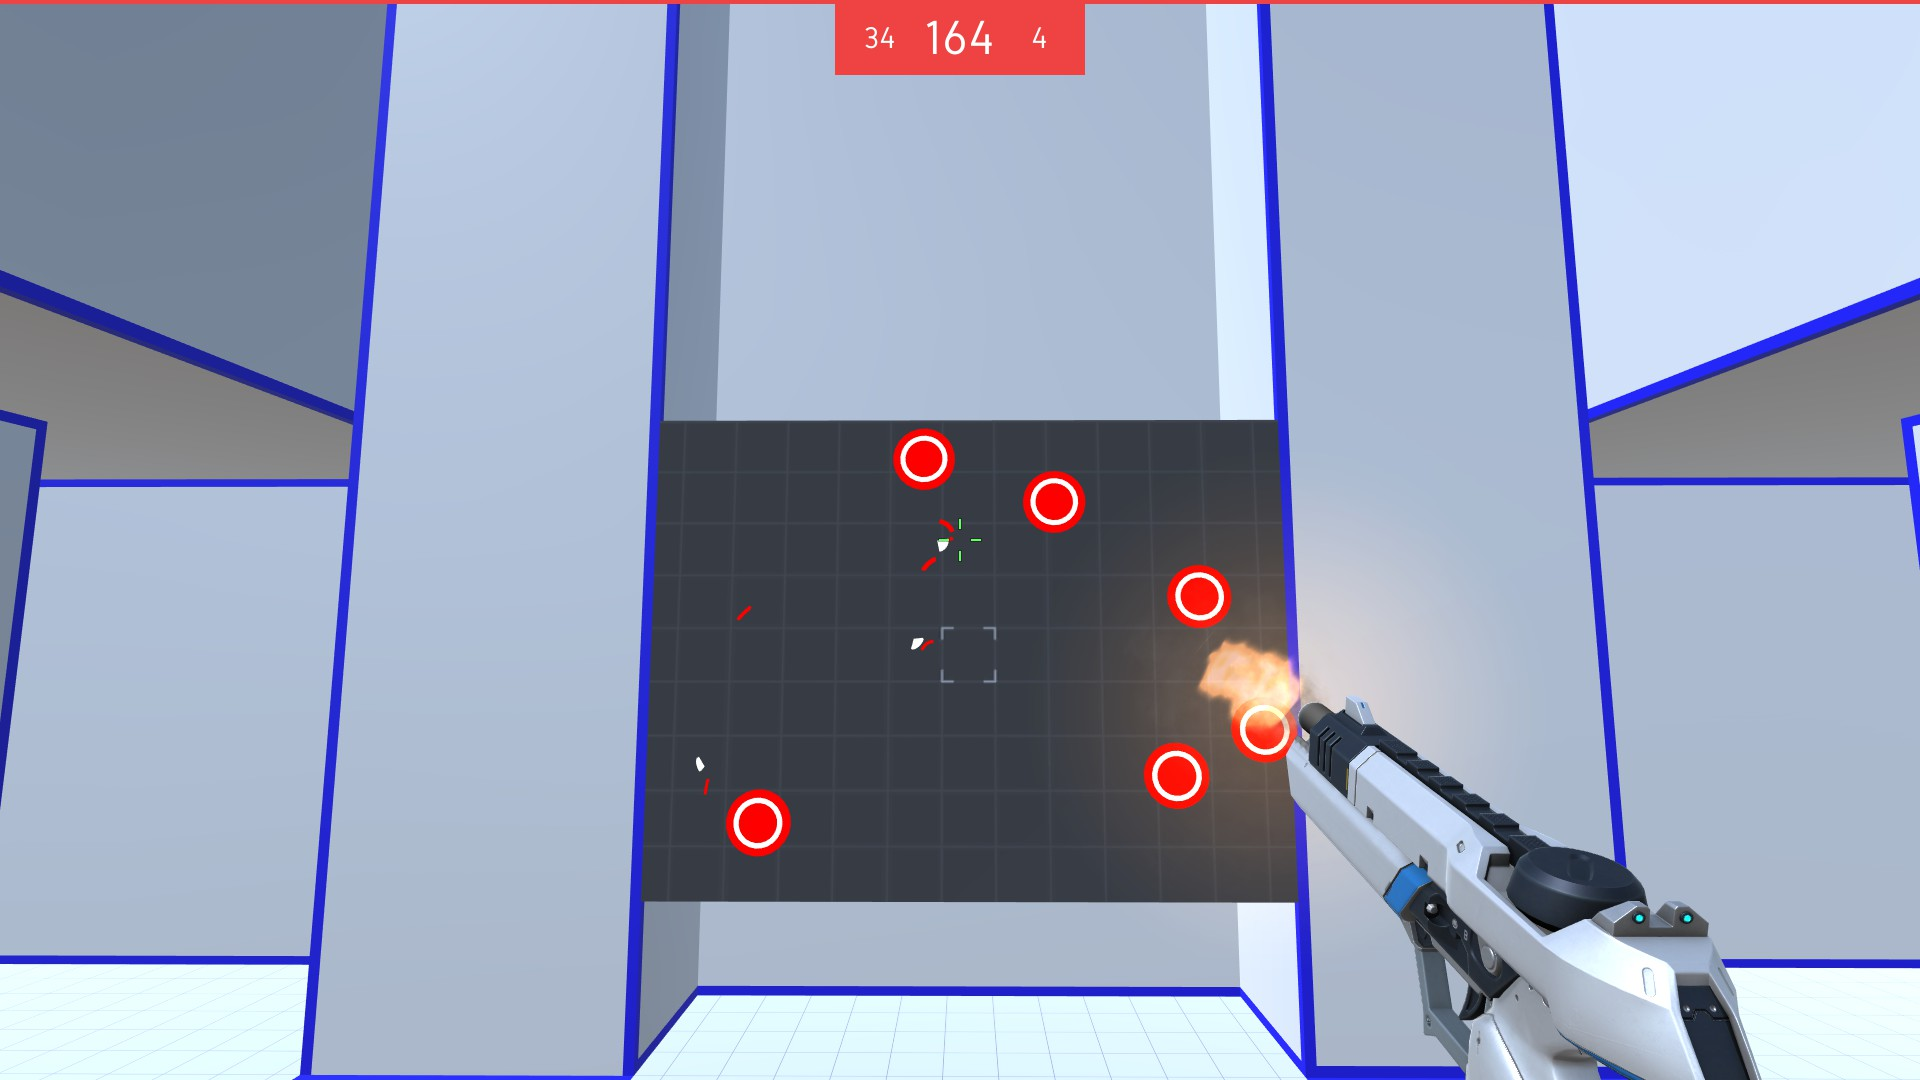target: (723, 789, 796, 862), (1142, 741, 1212, 814), (1229, 692, 1298, 766), (1160, 564, 1236, 630), (889, 425, 957, 496), (1021, 467, 1091, 535)
